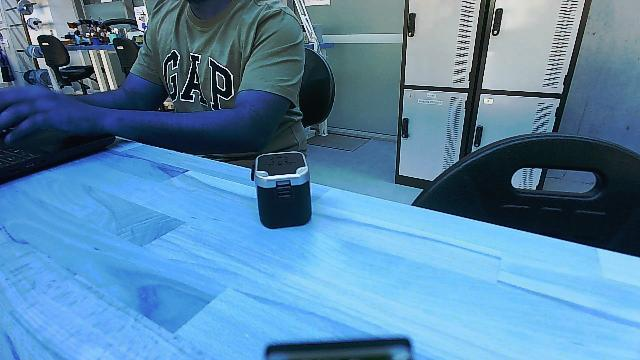adapter: (248, 148, 318, 232)
